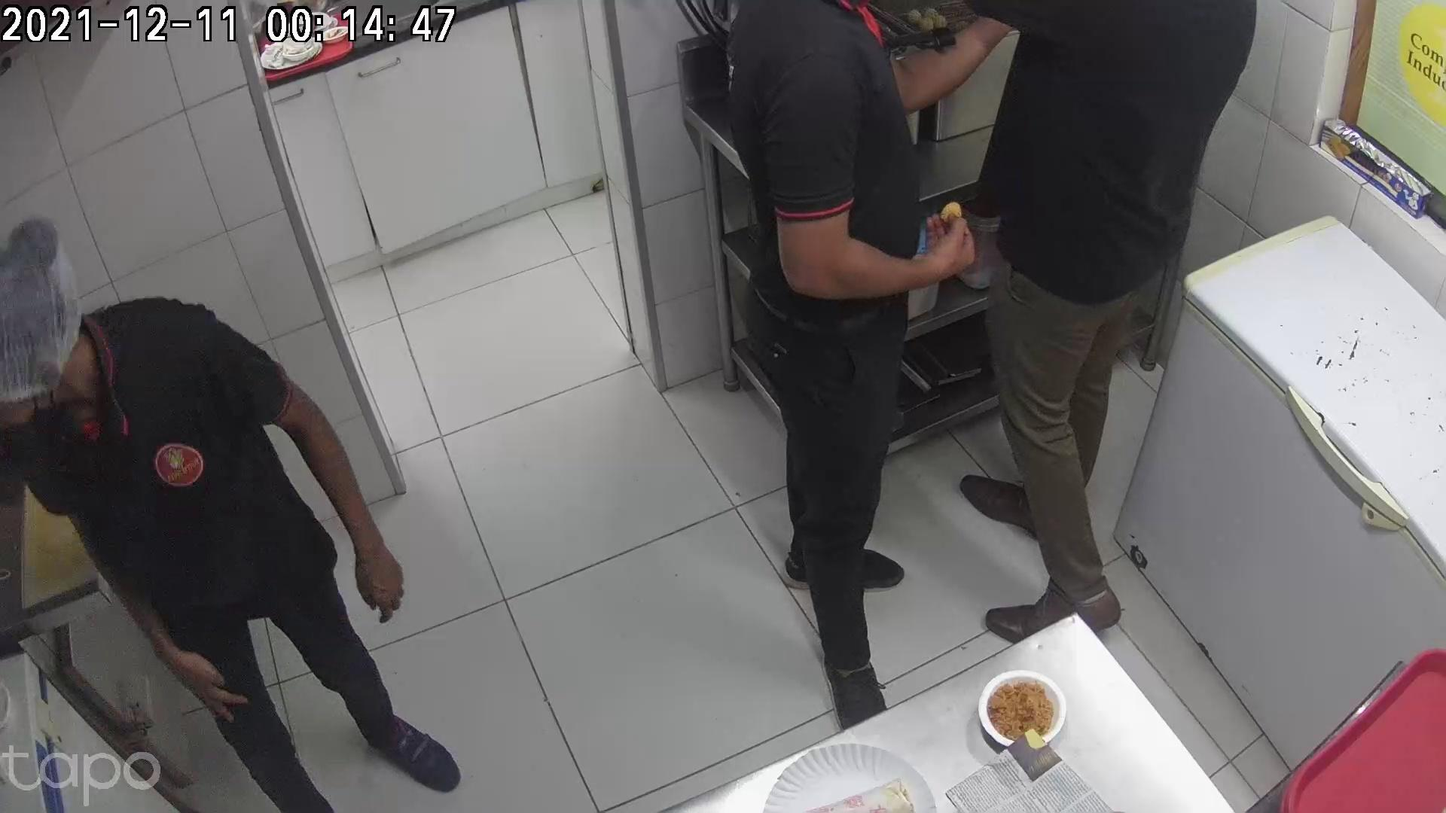no_gloves: (354, 520, 406, 622)
